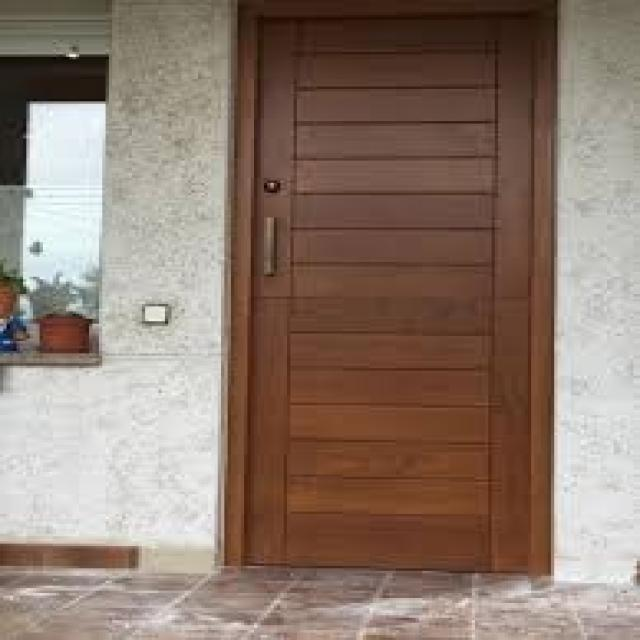door: (234, 5, 548, 573)
